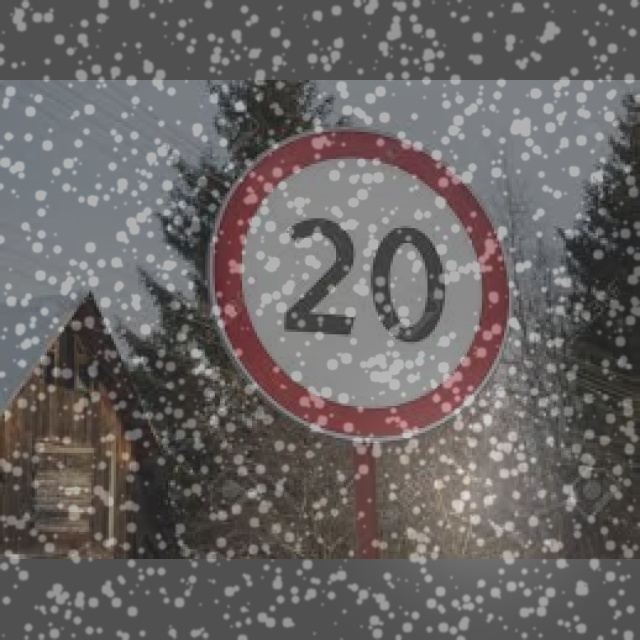Speed_Limit_20: (211, 128, 512, 437)
